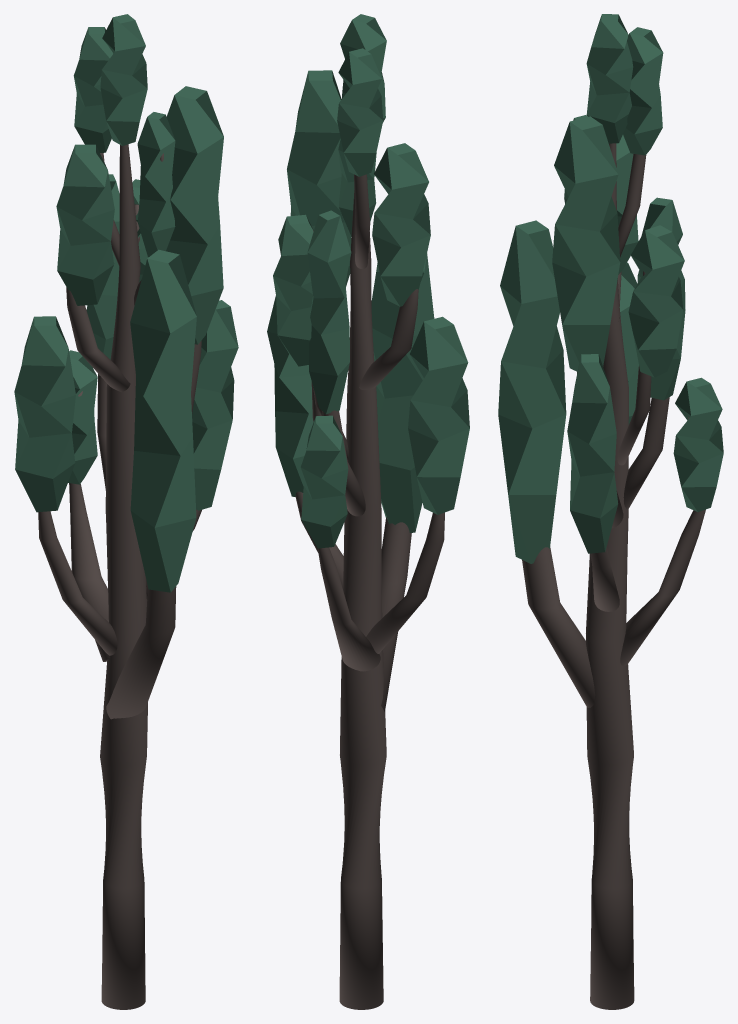
The model's file is LittleTree.fbx.
3 views of the same model, side by side, from view 1: azimuth 30°, elevation 25°; view 2: azimuth 150°, elevation 25°; view 3: azimuth 270°, elevation 25° (orthographic).
Parts seen in each view (by area): view 1: Trunk.003, Leaves.009, Leaves.014, Leaves.019, Leaves.017, Leaves.015, Leaves.012, Leaves.021, Branch.012, Leaves.016, Branch.015, Branch.016 (+4 smaller); view 2: Trunk.003, Leaves.019, Leaves.009, Leaves.017, Leaves.018, Leaves.014, Leaves.013, Leaves.015, Leaves.020, Leaves.016, Branch.016, Branch.012 (+7 smaller); view 3: Trunk.003, Leaves.009, Leaves.014, Leaves.015, Leaves.020, Leaves.013, Leaves.012, Branch.012, Leaves.016, Branch.015, Leaves.018, Branch.013 (+5 smaller).
Boxes of the visible parts, bbox=[...] form: Trunk.003: bbox=[100, 144, 147, 1009]; Leaves.009: bbox=[130, 249, 196, 592]; Leaves.014: bbox=[166, 86, 223, 344]; Leaves.019: bbox=[14, 316, 75, 512]; Leaves.017: bbox=[56, 144, 114, 305]; Leaves.015: bbox=[192, 300, 238, 510]; Leaves.012: bbox=[100, 14, 147, 145]; Leaves.021: bbox=[137, 112, 175, 256]; Branch.012: bbox=[106, 586, 176, 719]; Leaves.016: bbox=[73, 27, 113, 152]; Branch.015: bbox=[69, 391, 109, 661]; Branch.016: bbox=[38, 511, 117, 655]; Trunk.003: bbox=[339, 177, 386, 1009]; Leaves.019: bbox=[408, 316, 469, 514]; Leaves.009: bbox=[371, 253, 434, 532]; Leaves.017: bbox=[372, 143, 430, 306]; Leaves.018: bbox=[307, 210, 351, 414]; Leaves.014: bbox=[287, 70, 351, 286]; Leaves.013: bbox=[300, 415, 348, 548]; Leaves.015: bbox=[267, 296, 313, 496]; Leaves.020: bbox=[273, 214, 313, 366]; Leaves.016: bbox=[337, 48, 383, 176]; Branch.016: bbox=[366, 512, 444, 653]; Branch.012: bbox=[381, 517, 411, 711]; Trunk.003: bbox=[586, 143, 634, 1009]; Leaves.009: bbox=[498, 220, 566, 563]; Leaves.014: bbox=[552, 116, 620, 371]; Leaves.015: bbox=[567, 354, 618, 553]; Leaves.020: bbox=[628, 225, 684, 377]; Leaves.013: bbox=[673, 377, 723, 511]; Leaves.012: bbox=[586, 14, 633, 143]; Branch.012: bbox=[522, 547, 595, 707]; Leaves.016: bbox=[623, 27, 663, 155]; Branch.015: bbox=[620, 417, 705, 665]; Leaves.018: bbox=[637, 197, 685, 400]; Branch.013: bbox=[623, 397, 669, 509].
Size of the model in its own units: 107 by 493 by 102.
